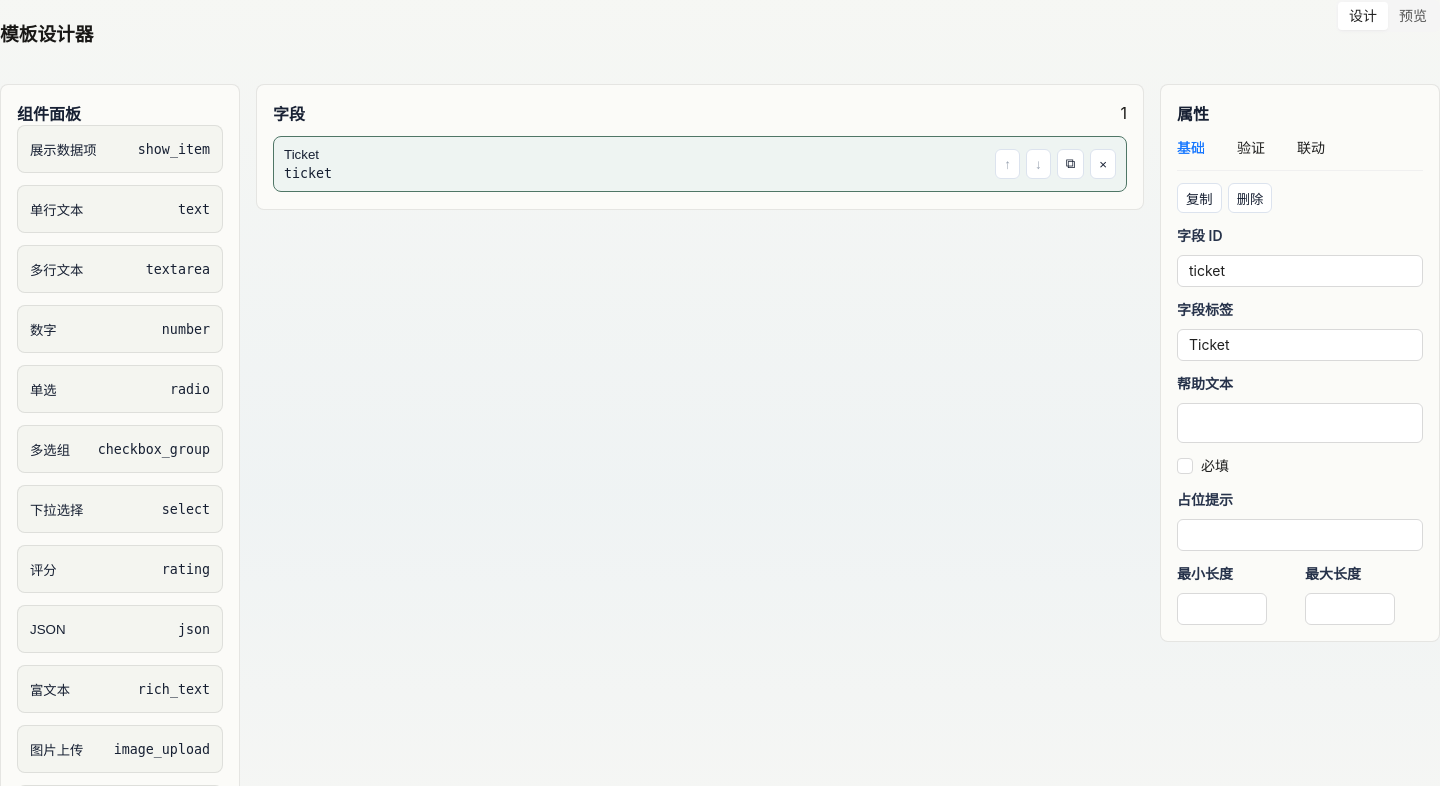
Test case: TemplateDesigner › surfaces unsafe regex validation authored in the inspector
Click the tab "验证".
click(1251, 148)  # box top-left (1237, 137), bottom-right (1265, 159)
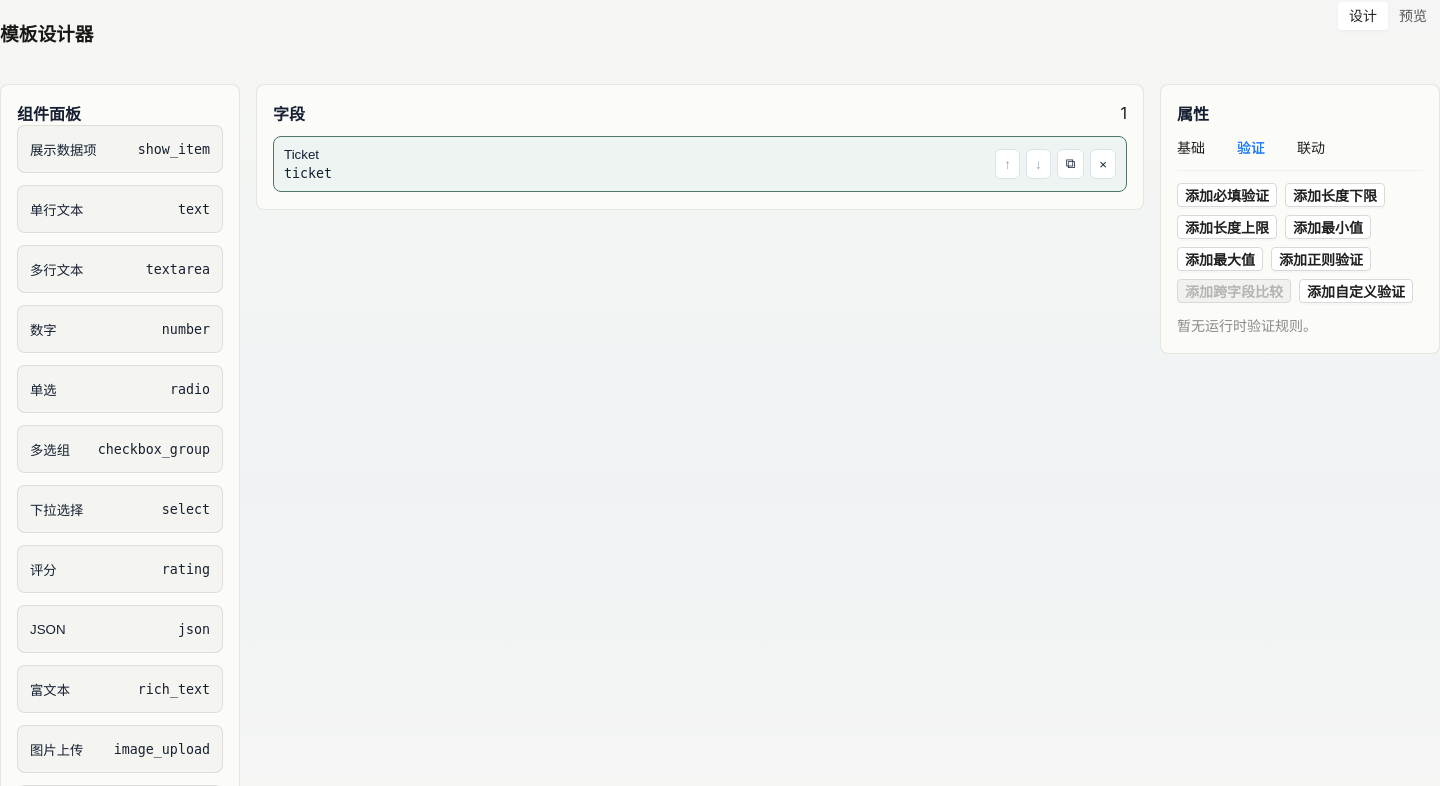
Click the button "添加正则验证".
click(1321, 259)  # box top-left (1271, 247), bottom-right (1371, 271)
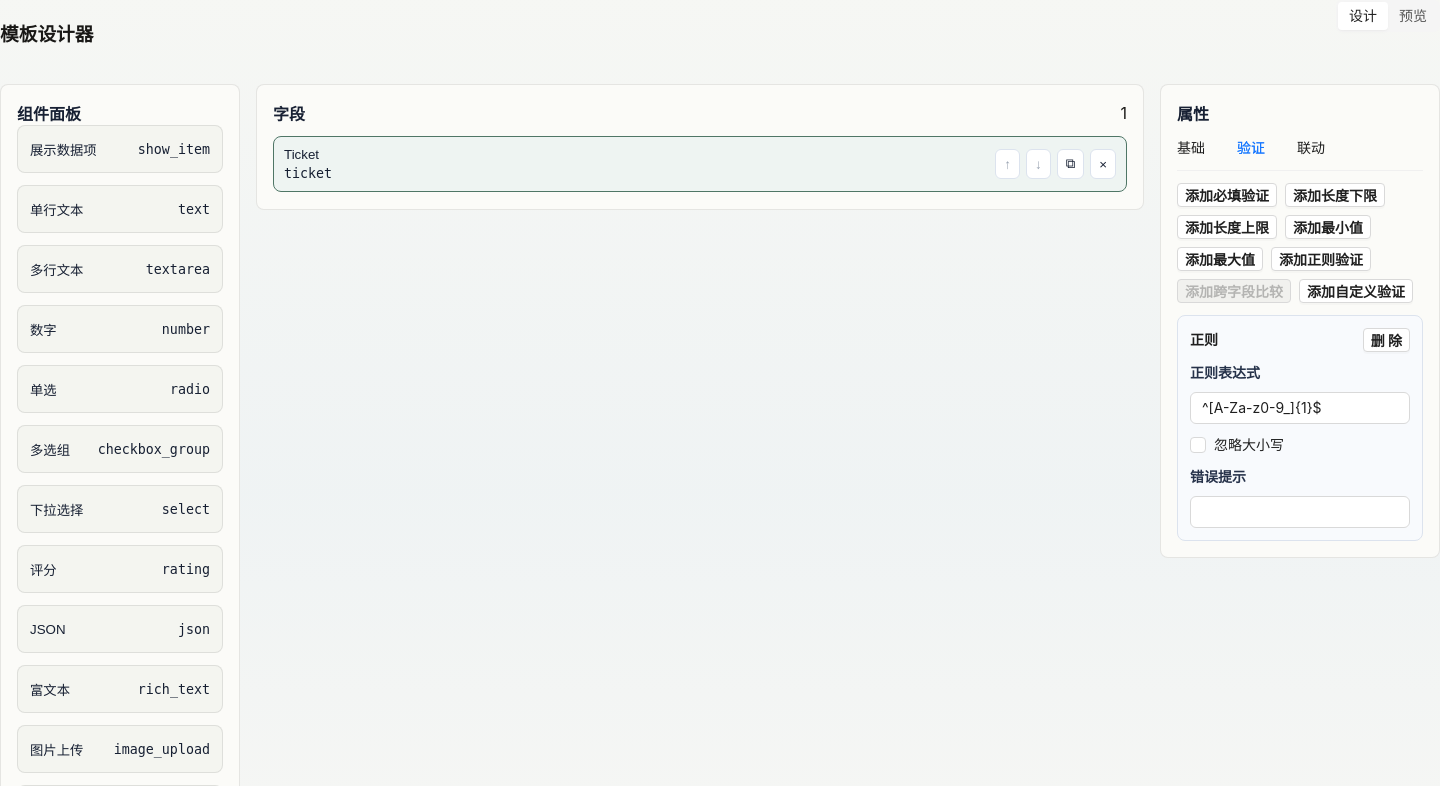
Replace the text in the field labelled "正则表达式" with "(a+)+$" at [1300, 408], box top-left (1190, 392), bottom-right (1410, 424)
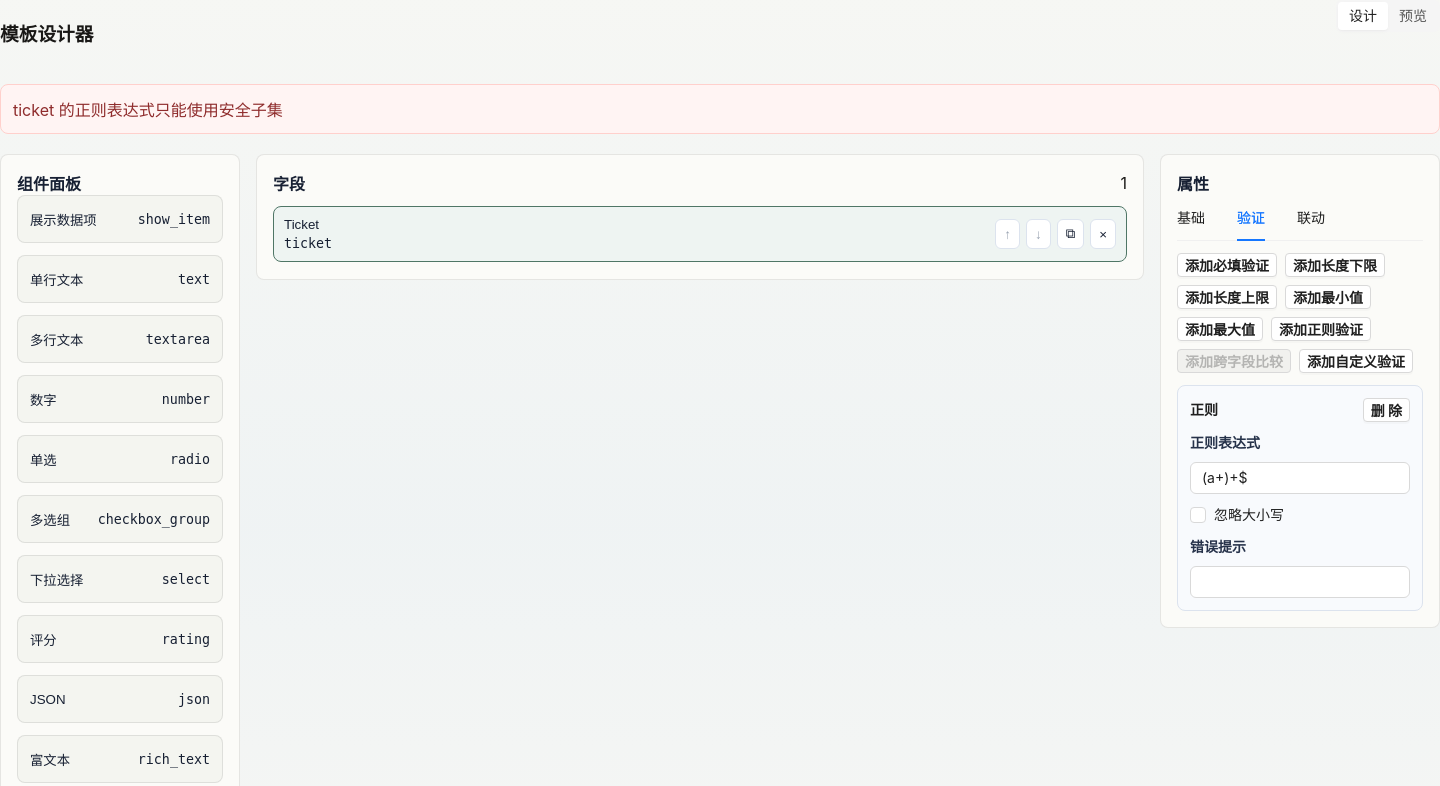
Expected: the text "ticket 的正则表达式只能使用安全子集" is shown, top-left (13, 100), bottom-right (283, 120)
